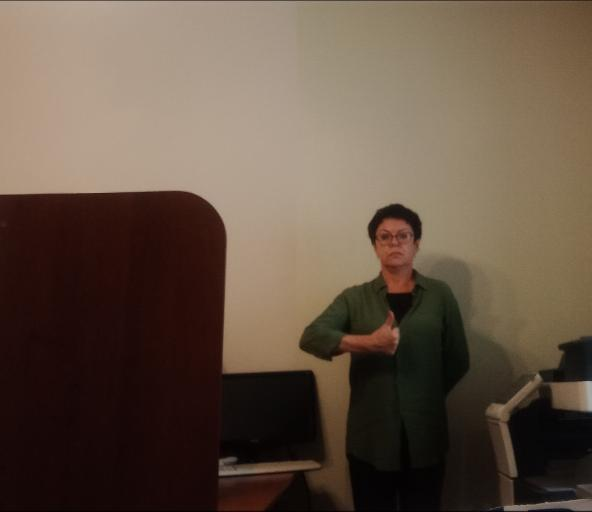like: (368, 308, 405, 357)
